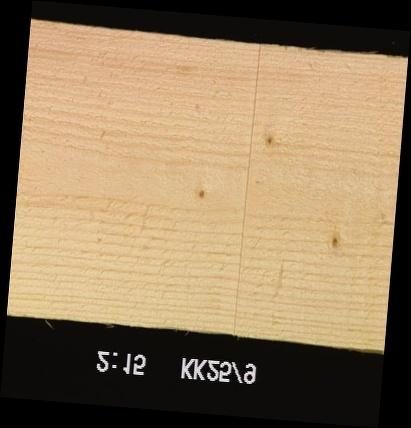small_knot: (323, 231, 348, 253), (260, 130, 281, 151), (191, 185, 211, 202)
